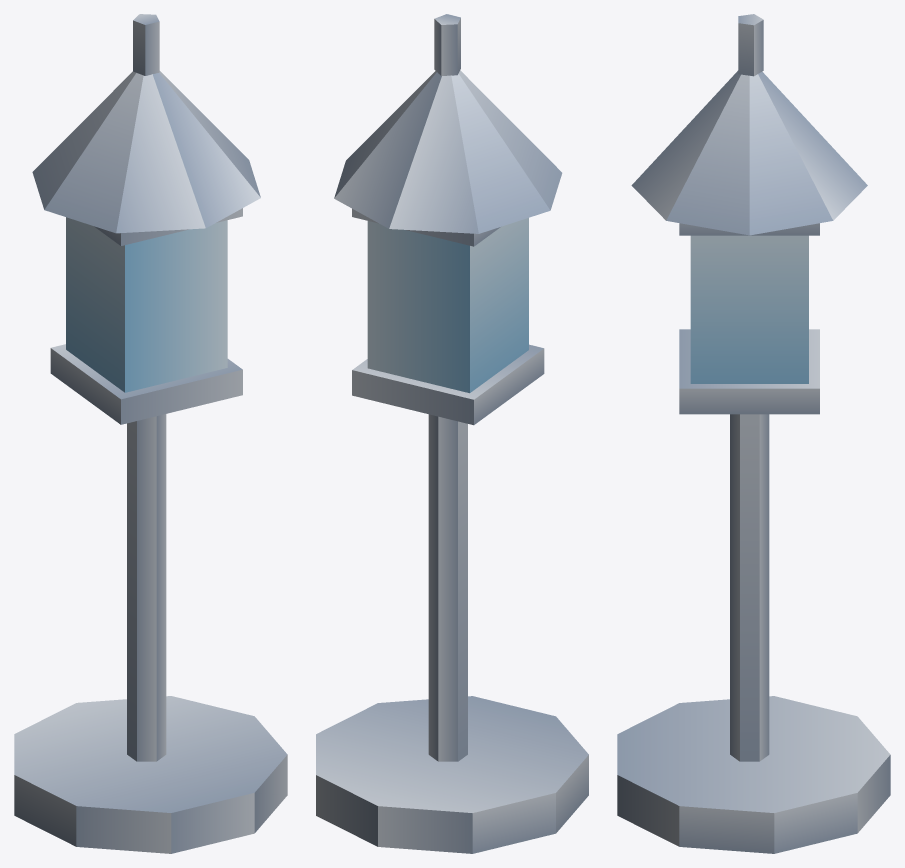
Rendered from lantern.fbx.
3 views of the same model, side by side, from view 1: azimuth 30°, elevation 25°; view 2: azimuth 150°, elevation 25°; view 3: azimuth 270°, elevation 25° (orthographic).
Visible parts, largest first — view 1: lantern; view 2: lantern; view 3: lantern.
Boxes of the visible parts, x1,y1,x2,y2 form: lantern: [14, 14, 287, 853]; lantern: [316, 14, 588, 853]; lantern: [617, 14, 890, 853].
Bounding box in the file's own units: 90.71 × 280 × 89.33.
